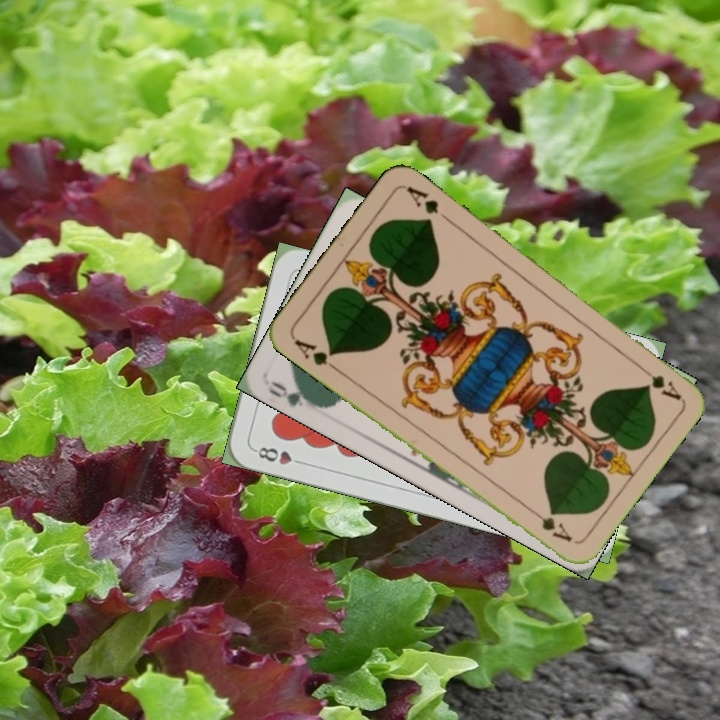GA: (633, 360, 684, 403), (290, 334, 341, 374)
GO: (264, 377, 322, 410)
H8: (250, 442, 308, 468)
